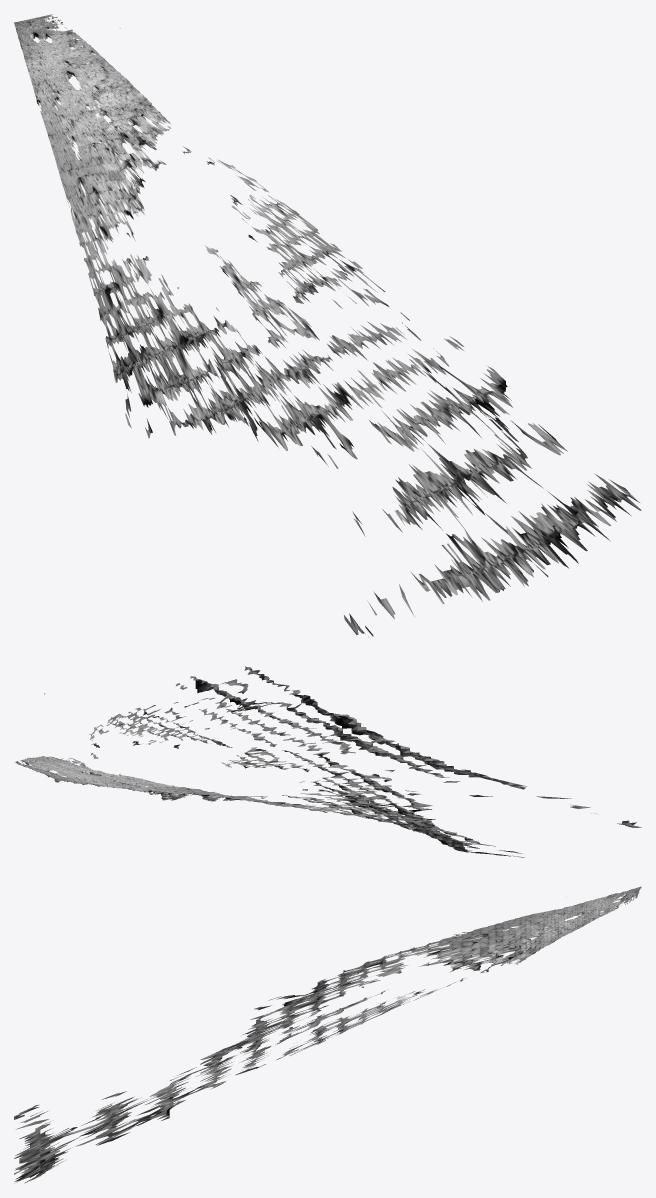
Rendered from terrain.obj.
3 views of the same model, one above another, from view 1: azimuth 30°, elevation 25°; view 2: azimuth 150°, elevation 25°; view 3: azimuth 270°, elevation 25° (orthographic). The views are drawn at different scales.
Size of the model in its own units: 14.61 by 12.82 by 27.93.
1 material, 1 textured.
